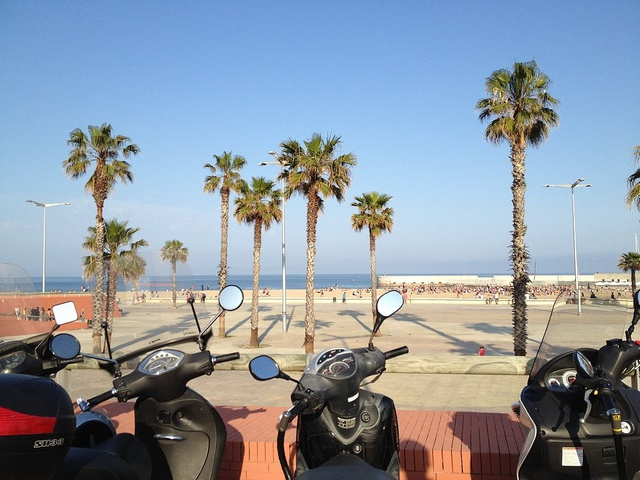non-vehicle: (0, 280, 251, 471), (245, 289, 409, 474), (510, 288, 639, 475)
